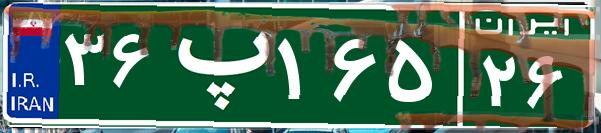1: (273, 28, 330, 110)
2: (475, 38, 525, 113)
3: (57, 26, 110, 107)
5: (385, 28, 445, 110)
6: (330, 28, 385, 110), (110, 28, 158, 105), (525, 38, 570, 115)
پ: (158, 15, 273, 115)
